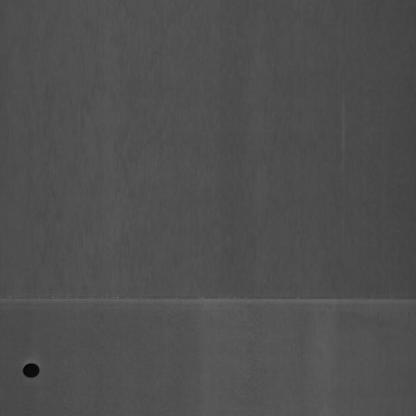punching_hole: (19, 352, 42, 381)
welding_line: (2, 289, 416, 312)
